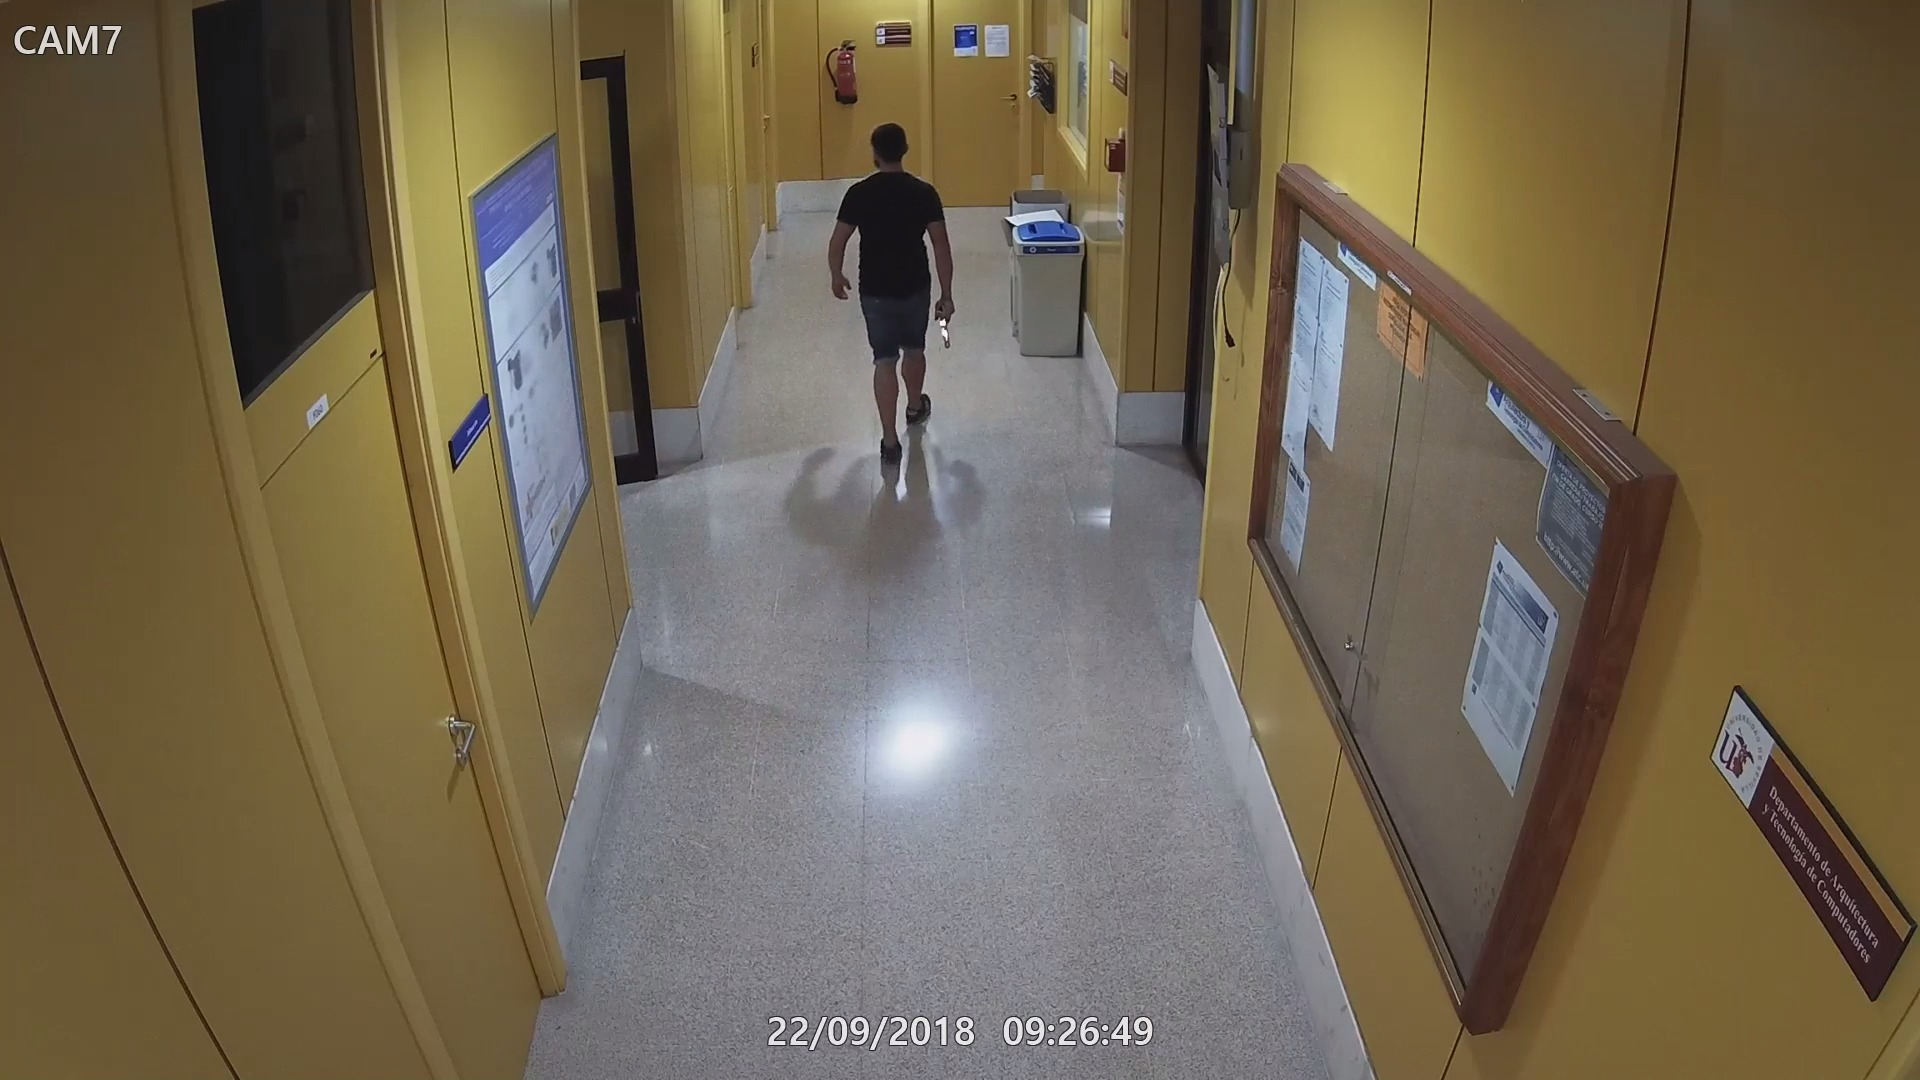Handgun: (930, 290, 956, 349)
